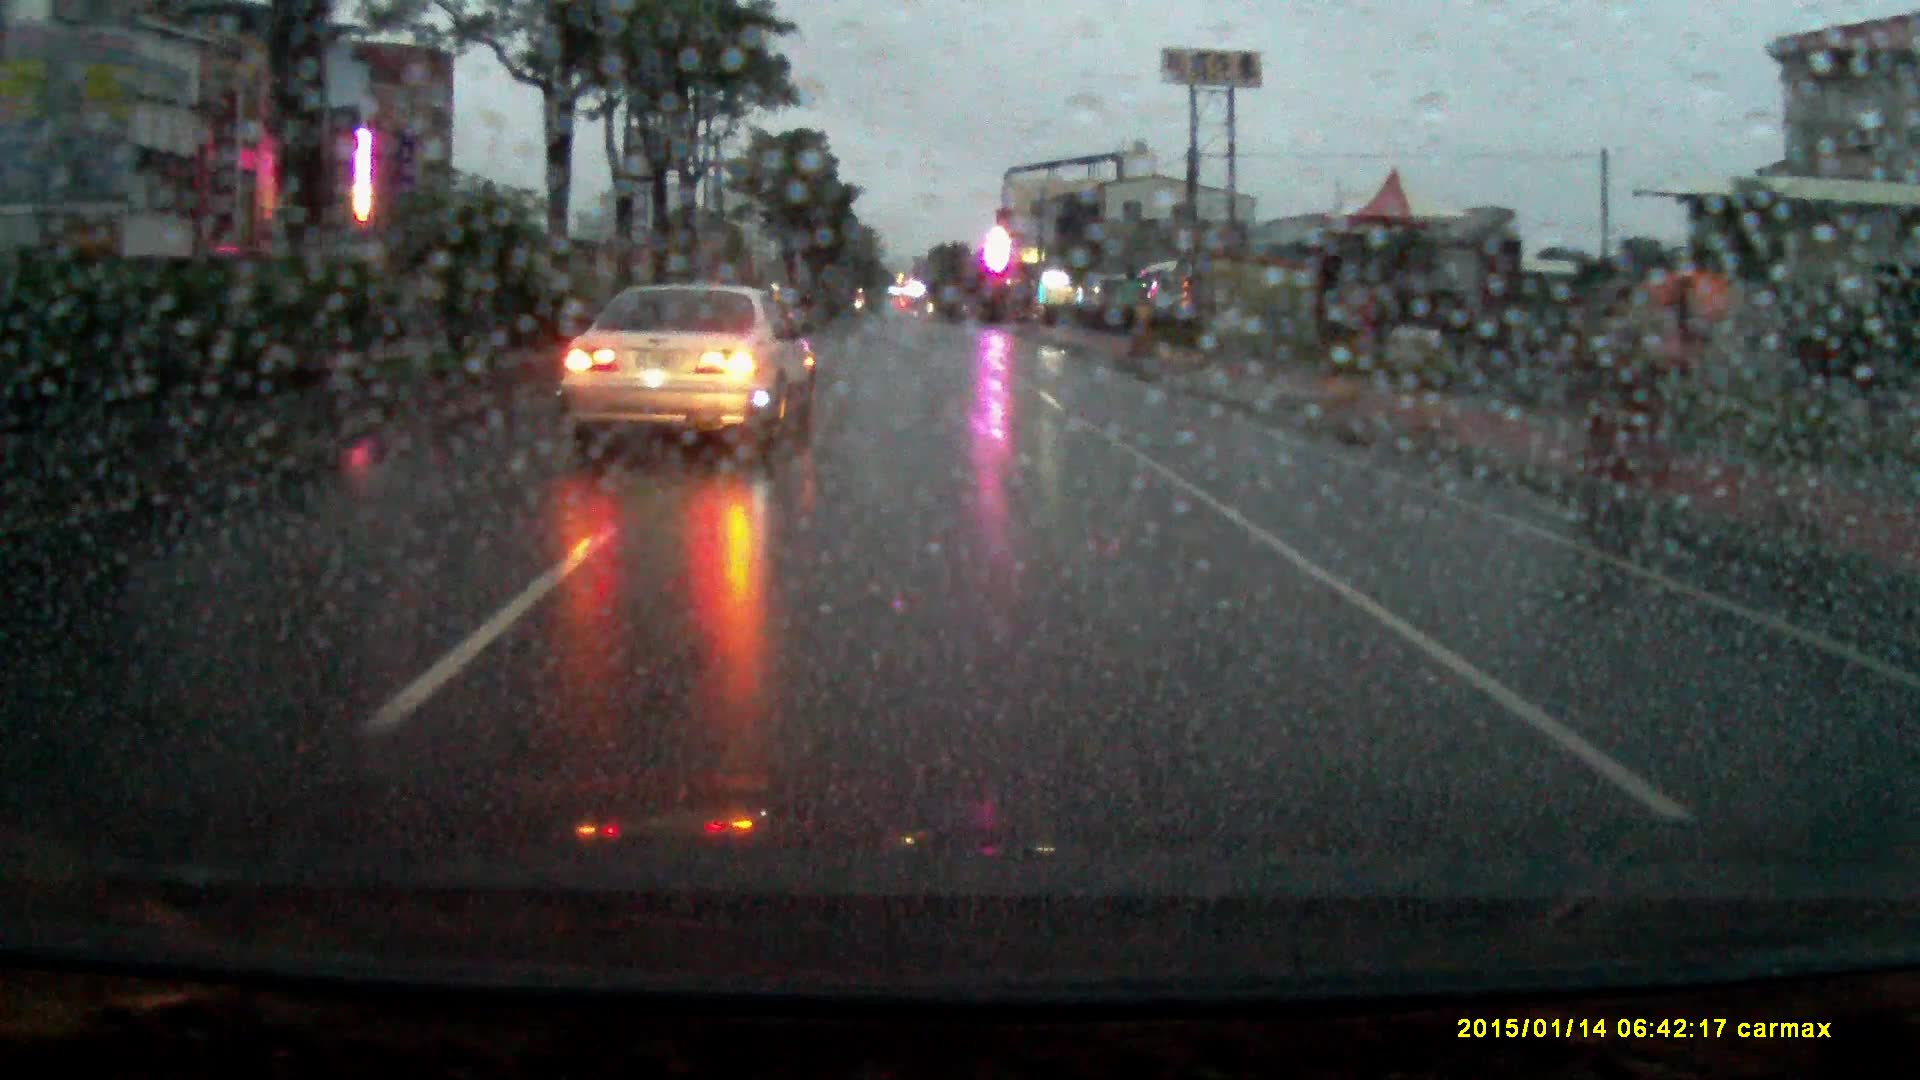pedestrian: (1638, 263, 1739, 493)
vehicle: (553, 286, 822, 464), (1082, 276, 1134, 313)
